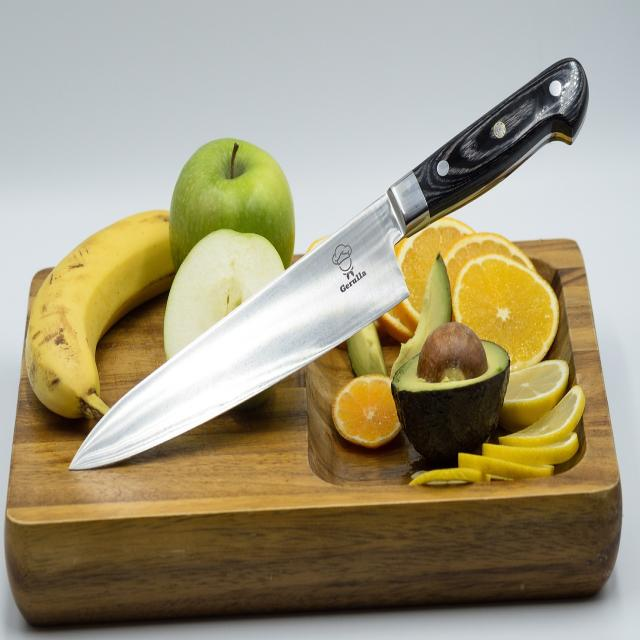knife: (69, 59, 589, 470)
